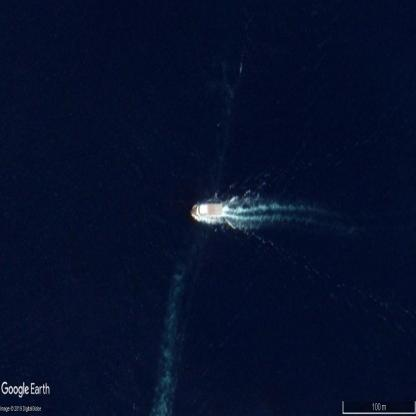ship: (191, 202, 223, 218)
